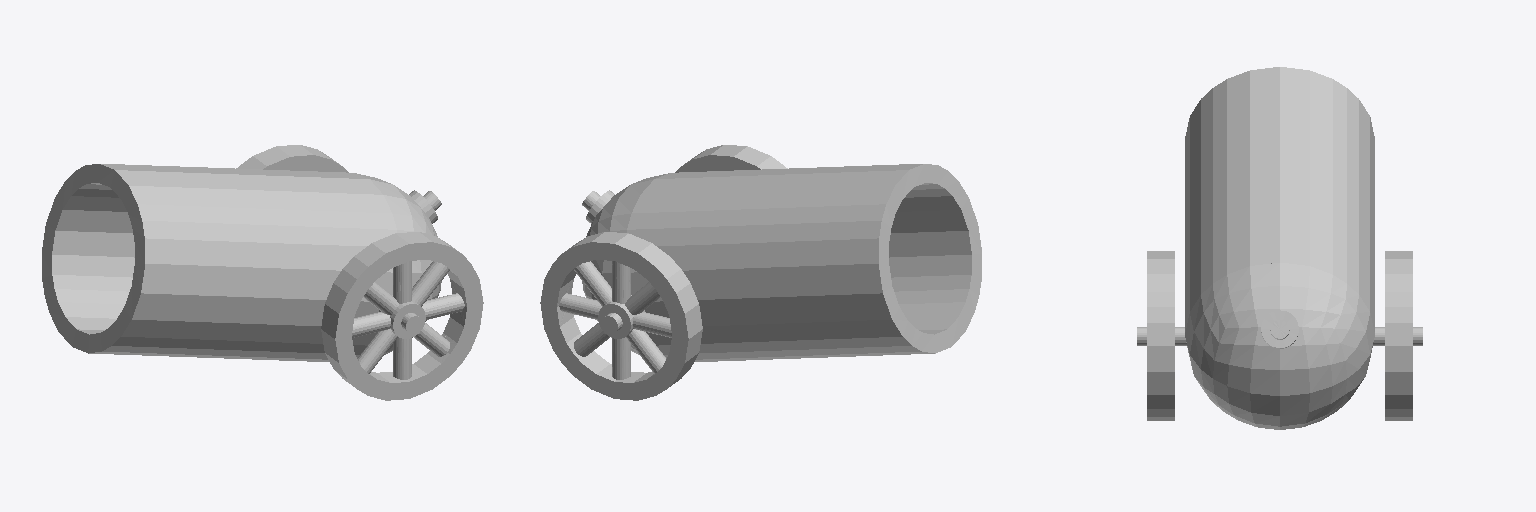
File: Cannon.obj
3 views of the same model, side by side, from view 1: azimuth 30°, elevation 25°; view 2: azimuth 150°, elevation 25°; view 3: azimuth 270°, elevation 25° (orthographic).
Visible parts, largest first — view 1: Barrel1, Wheel1, Start1, Wheel2; view 2: Barrel1, Wheel2, Start1, Wheel1; view 3: Barrel1, Start1, Wheel1, Wheel2, Part1, Part2.
Part boxes in pixels (x1,y1,x2,y2): Barrel1: (42, 164, 396, 361); Wheel1: (321, 232, 483, 400); Start1: (355, 173, 441, 354); Wheel2: (236, 145, 348, 172); Barrel1: (627, 164, 981, 361); Wheel2: (540, 232, 702, 400); Start1: (582, 173, 668, 354); Wheel1: (675, 145, 787, 172); Barrel1: (1185, 67, 1374, 331); Start1: (1185, 263, 1374, 429); Wheel1: (1147, 251, 1174, 420); Wheel2: (1385, 251, 1412, 420); Part1: (1261, 310, 1298, 348); Part2: (1137, 327, 1422, 345).
Size of the model in its own units: 4.46 by 2.79 by 3.